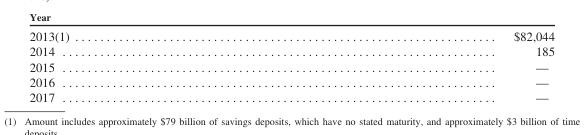table: (28, 28, 553, 103)
table column: (290, 28, 553, 103), (28, 28, 290, 103)
table row: (28, 73, 553, 89), (28, 28, 553, 43), (28, 43, 553, 58), (28, 58, 553, 73), (28, 89, 553, 103)
